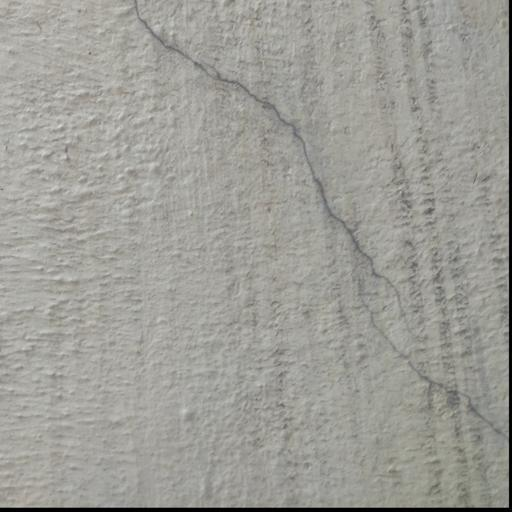minor_crack: (124, 0, 512, 443)
